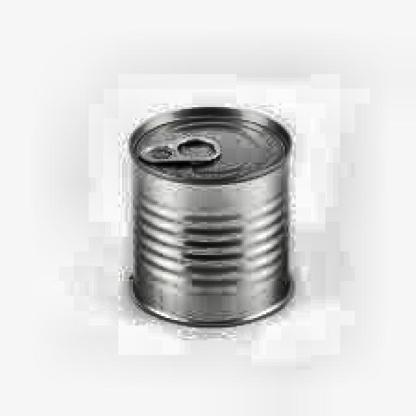Can: (126, 101, 300, 331)
